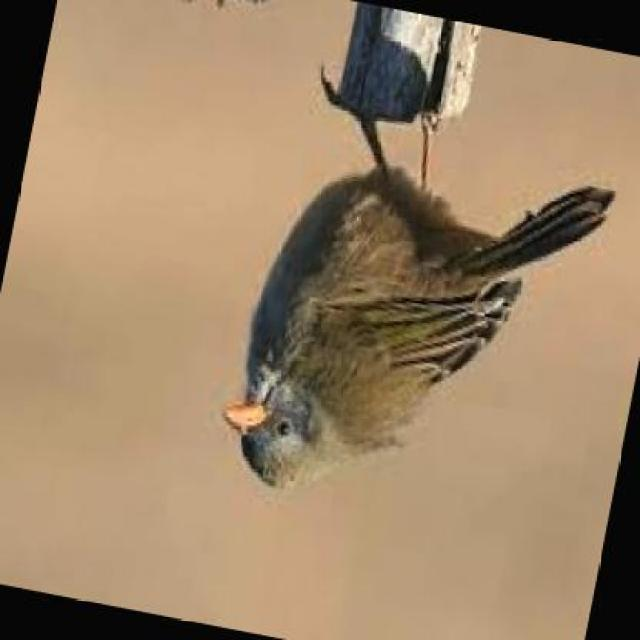Bird: (212, 152, 622, 504)
